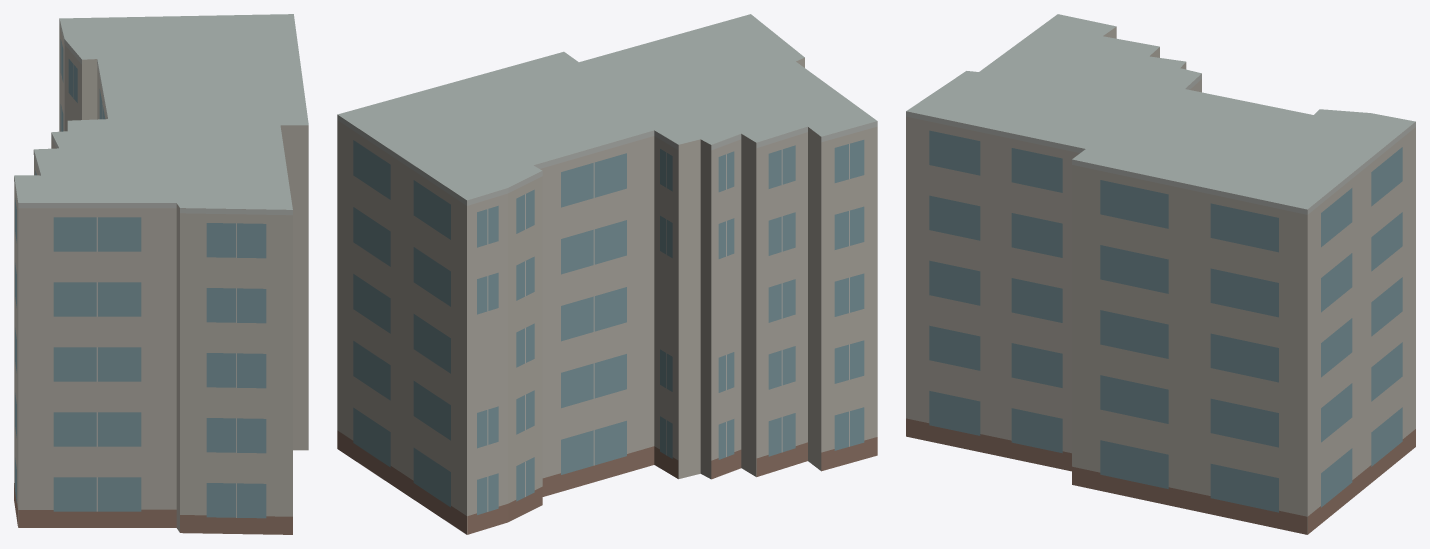
Rendered from survey-upis-32960147.glb.
3 views of the same model, side by side, from view 1: azimuth 30°, elevation 25°; view 2: azimuth 150°, elevation 25°; view 3: azimuth 270°, elevation 25° (orthographic). The views are drawn at different scales.
Parts seen in each view (by area): view 1: survey-upis-32960147.tmp; view 2: survey-upis-32960147.tmp; view 3: survey-upis-32960147.tmp.
Part boxes in pixels (x1,y1,x2,y2): survey-upis-32960147.tmp: [14, 14, 308, 534]; survey-upis-32960147.tmp: [337, 14, 877, 534]; survey-upis-32960147.tmp: [906, 14, 1415, 534].
Size of the model in its own units: 19.09 by 14.8 by 21.03.
